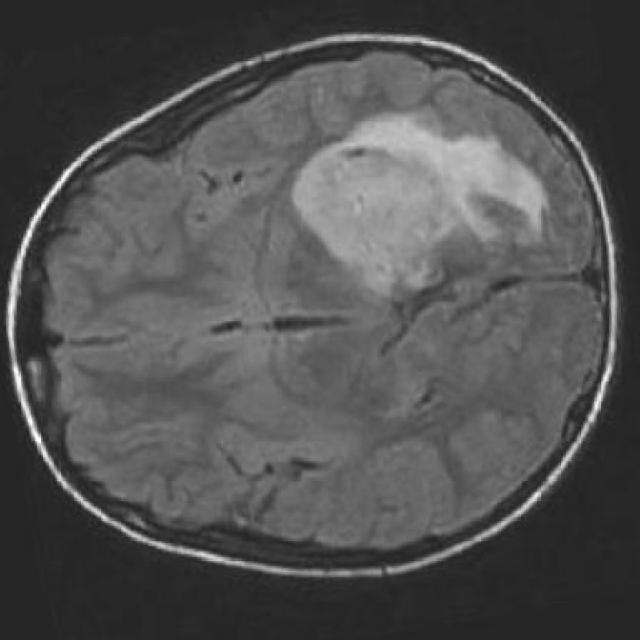Brain-Tumor: (285, 99, 567, 302)
